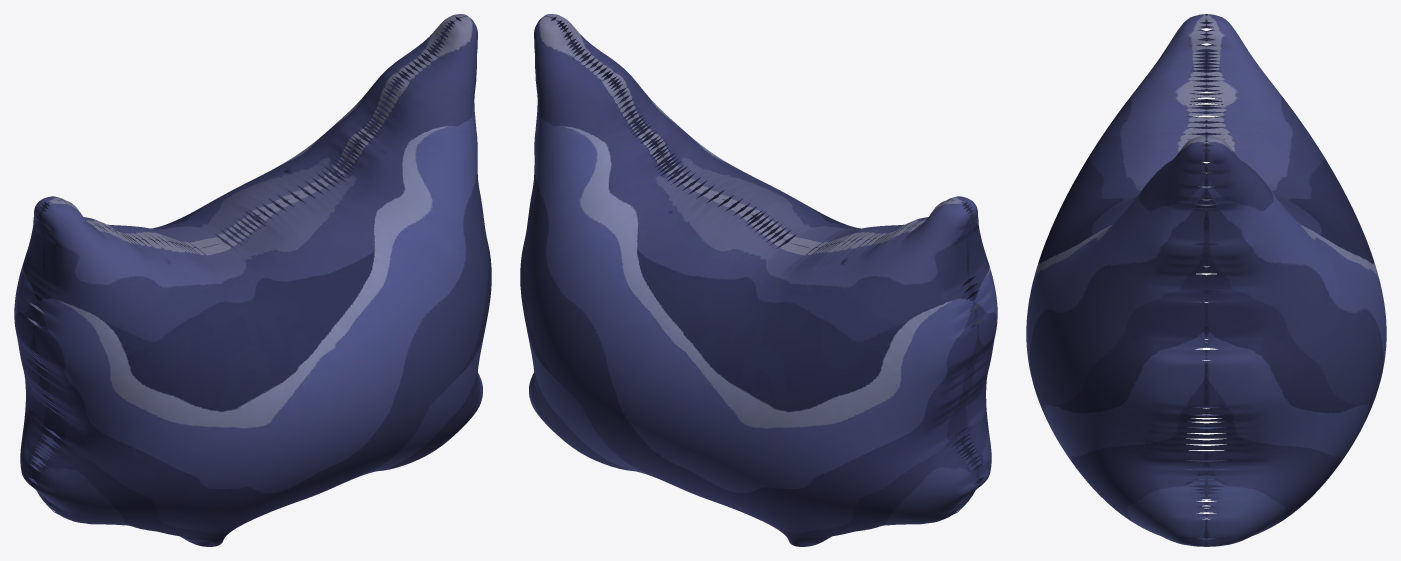
Rendered from indigo_cliff.glb.
3 renders of one model, left to right at view 1: azimuth 30°, elevation 25°; view 2: azimuth 150°, elevation 25°; view 3: azimuth 270°, elevation 25°, orthographic. The views are drawn at different scales.
Visible parts, largest first — view 1: indigo_cliff; view 2: indigo_cliff; view 3: indigo_cliff.
Boxes of the visible parts, x1,y1,x2,y2 form: indigo_cliff: [14, 14, 491, 546]; indigo_cliff: [520, 14, 997, 546]; indigo_cliff: [1026, 14, 1386, 546].
Bounding box in the file's own units: 0.9889 × 0.9171 × 0.6605.
Materials: 1 (1 with a texture image).
